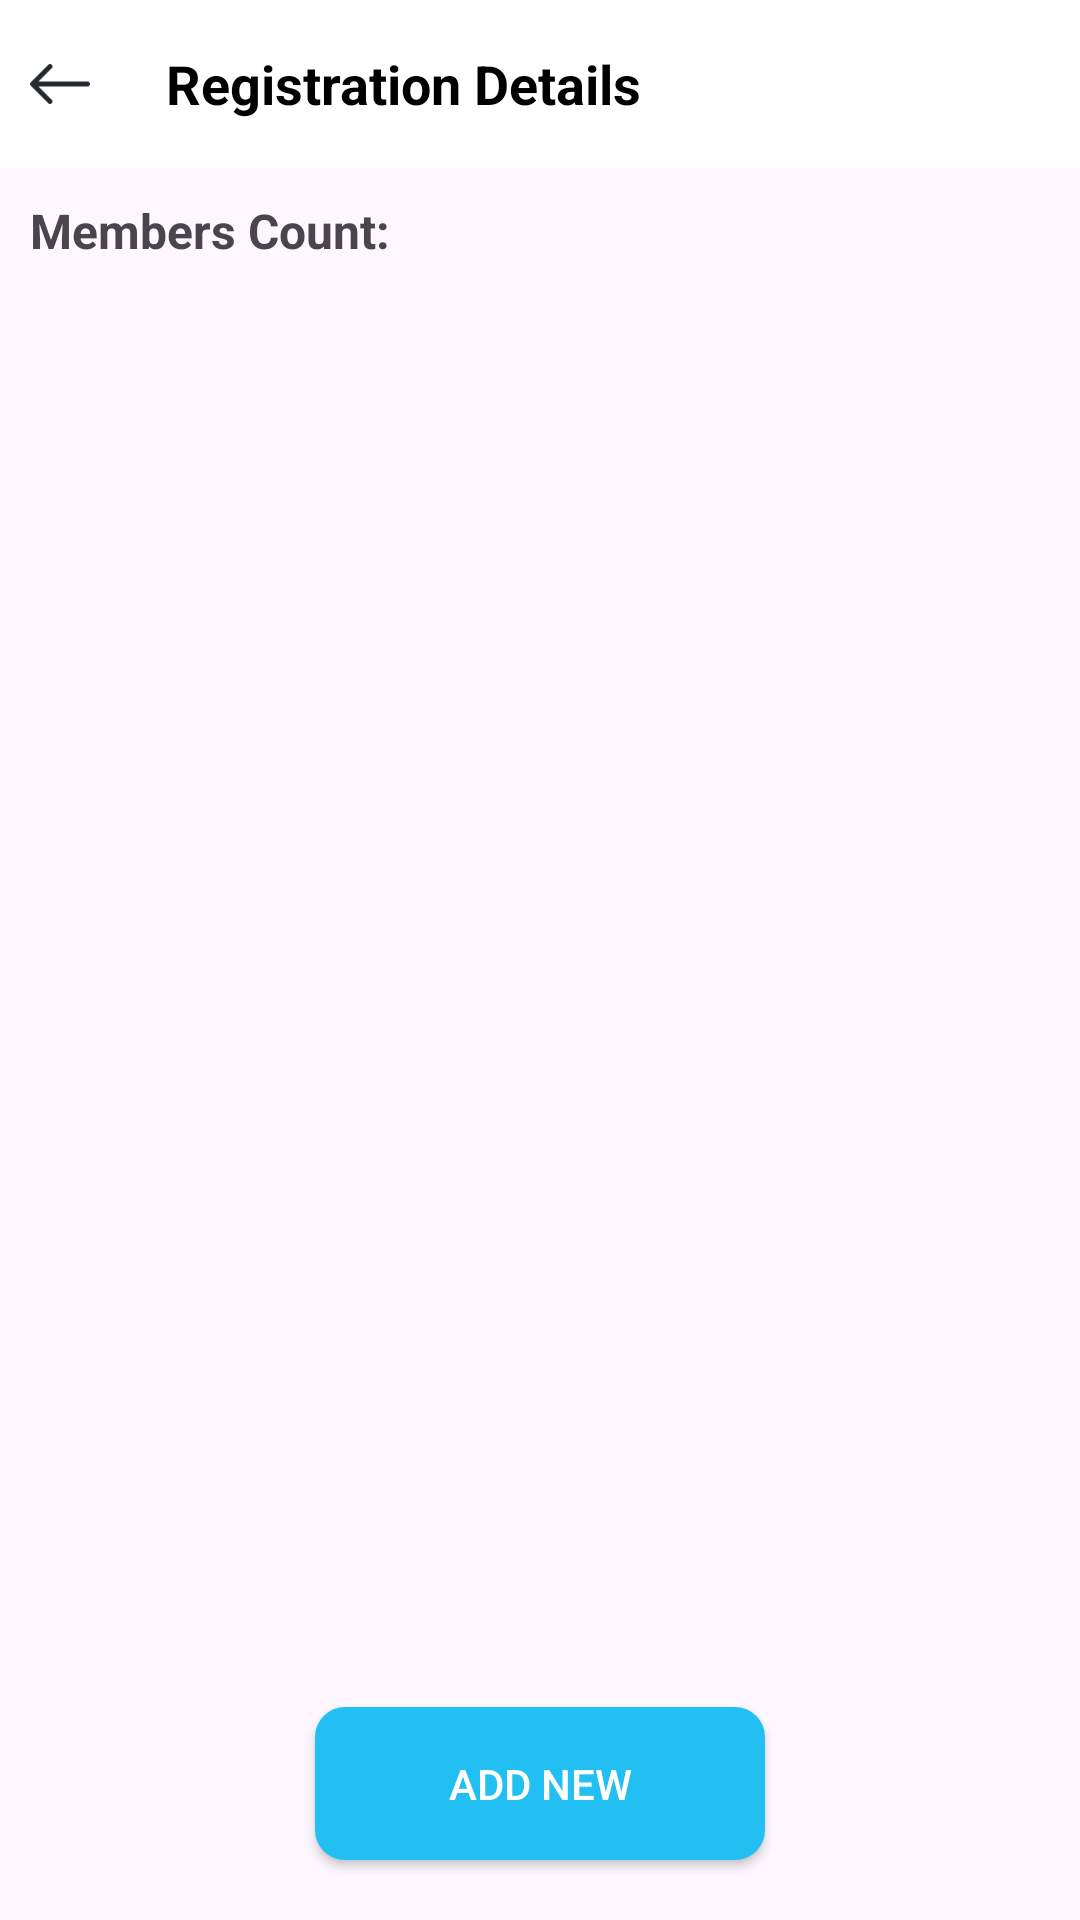

Named icons in this screenshot (1080x1920) and their bounding boxes, (x1, y1, x2, y2):
back arrow: (30, 64, 90, 104)
